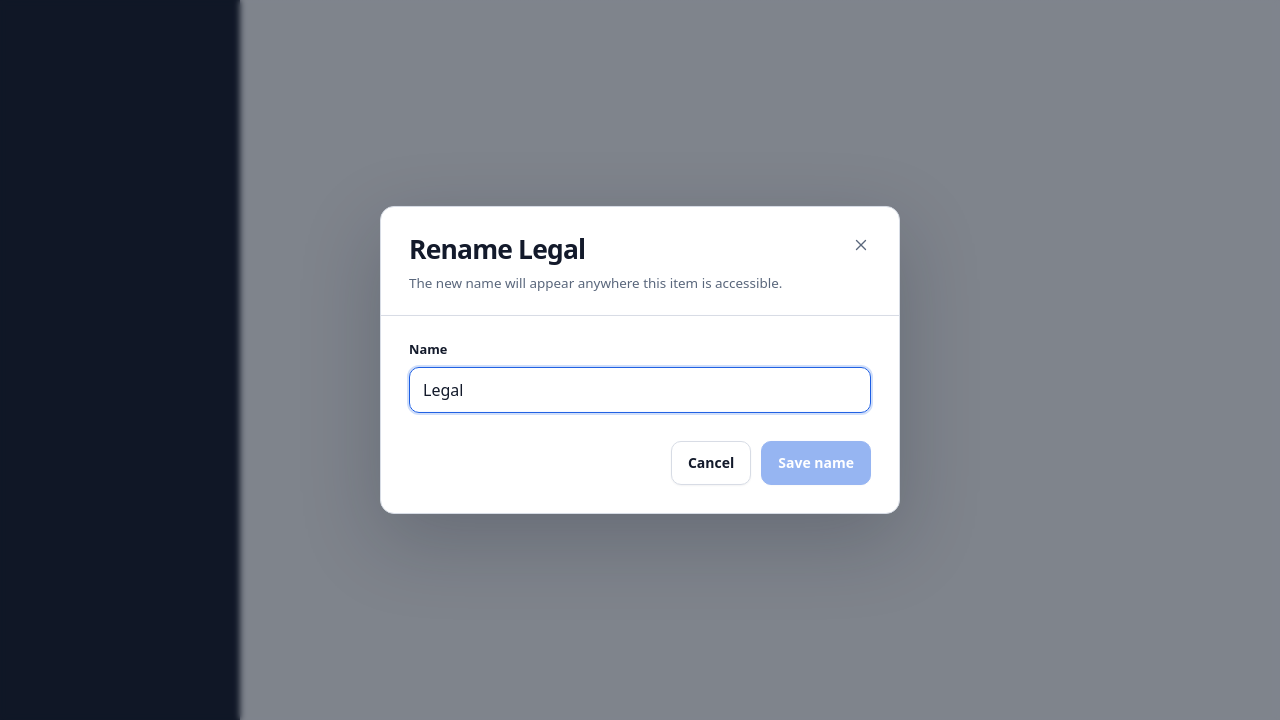
Test: management dialogs › keeps a conflicting rename input and focuses it after applying the server suggestion
Step 1. Replace the text in the field labelled "Name" with "Tax" → (640, 390), box x1=409 y1=367 x2=871 y2=413
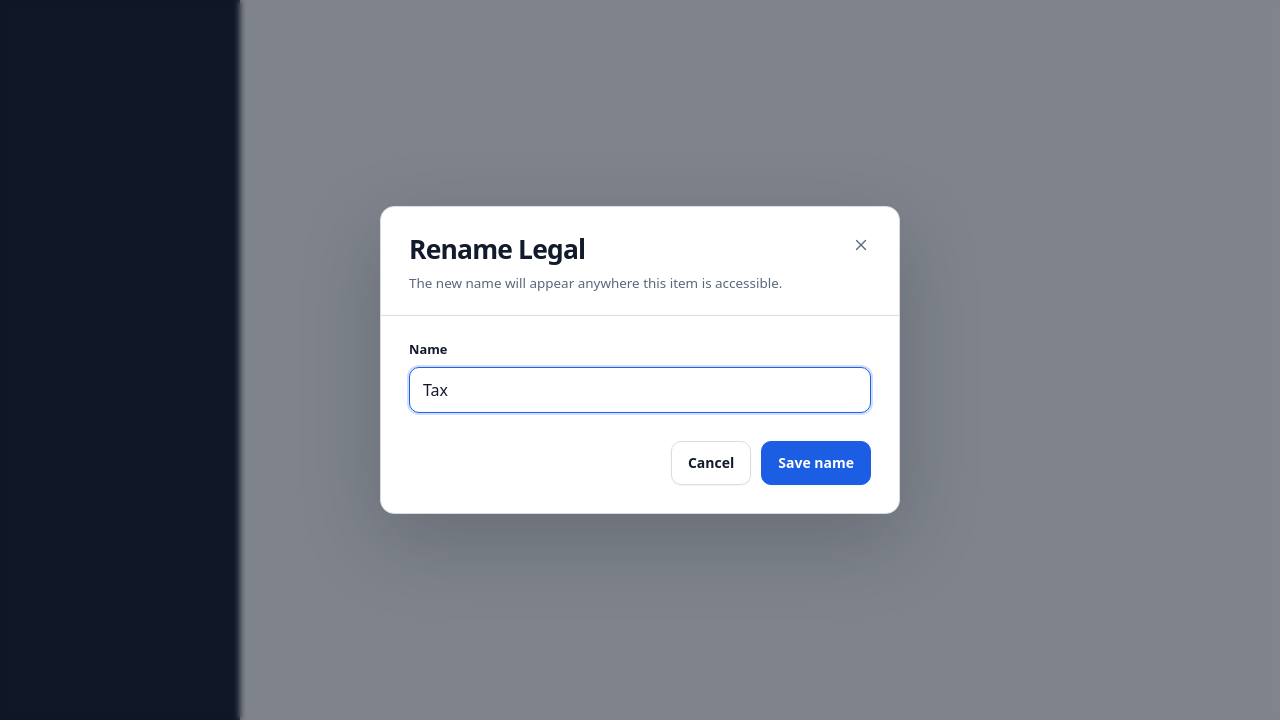
Step 2. Click the button "Save name" → (816, 463), box x1=761 y1=441 x2=871 y2=485
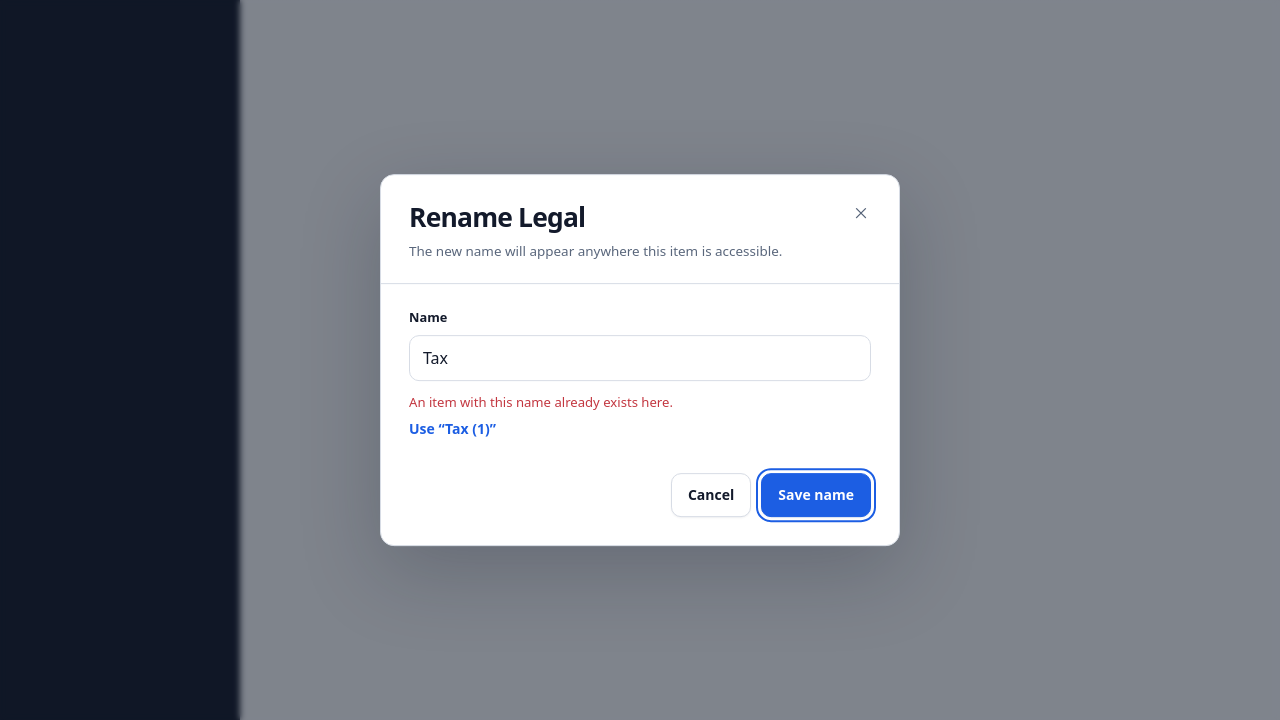
expect the message shows "already exists": met, box x1=409 y1=393 x2=673 y2=411
Step 3. Click the button "Use “Tax (1)”" → (452, 429), box x1=409 y1=413 x2=496 y2=445
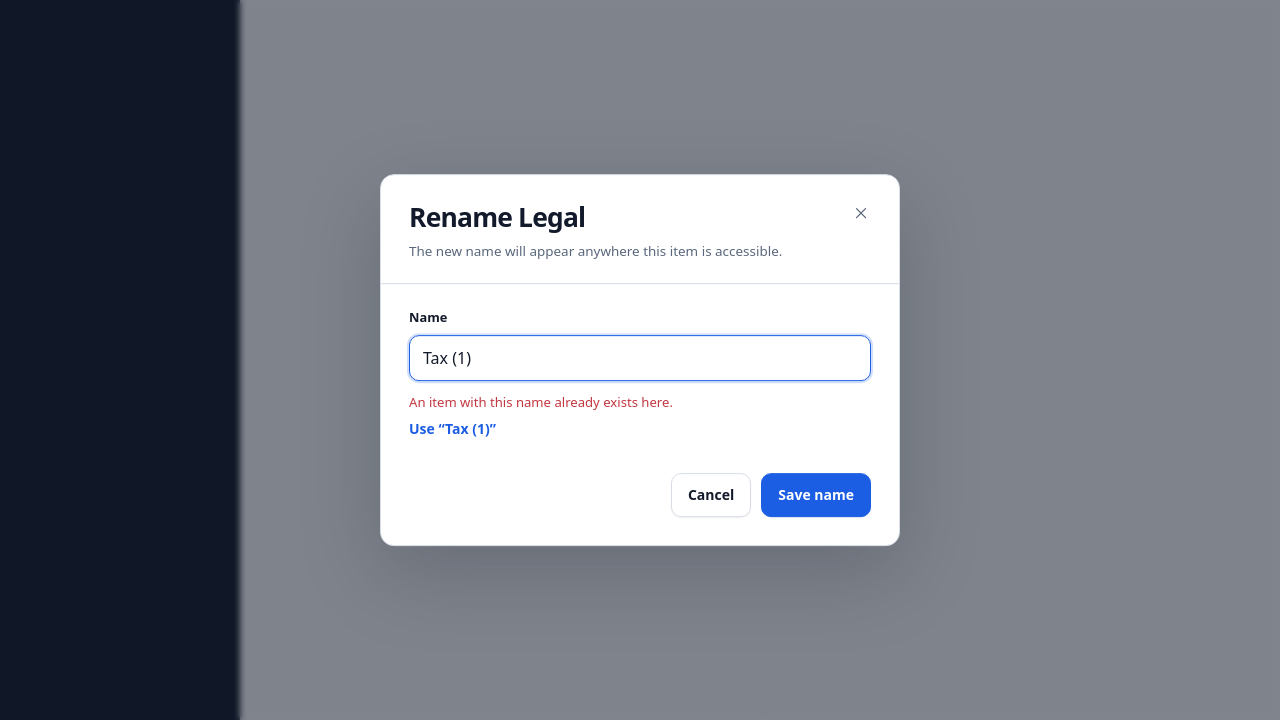
expect the field labelled "Name" holds "Tax (1)": met, box x1=409 y1=335 x2=871 y2=381
